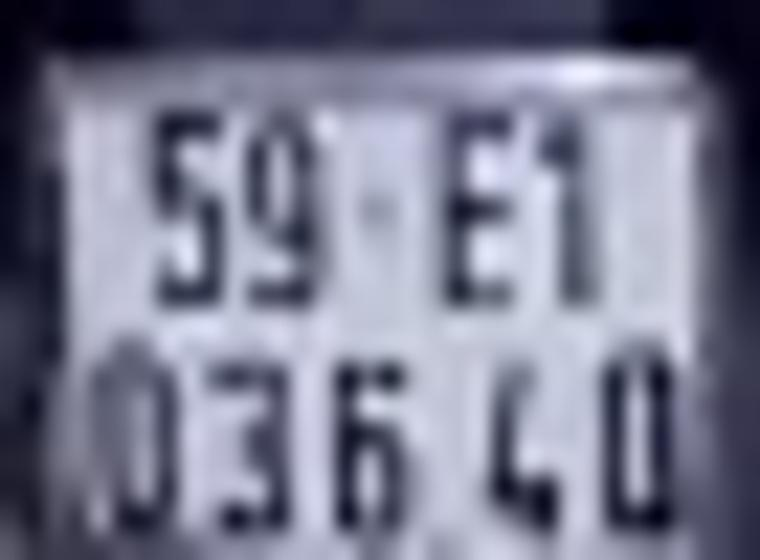-: (351, 177, 413, 255)
.: (422, 519, 466, 560)
0: (85, 335, 194, 540), (595, 342, 688, 551)
1: (533, 85, 613, 335)
3: (204, 335, 305, 553)
4: (473, 351, 576, 546)
5: (145, 91, 230, 315)
6: (324, 337, 425, 552)
9: (242, 90, 329, 319)
E: (428, 83, 526, 334)
